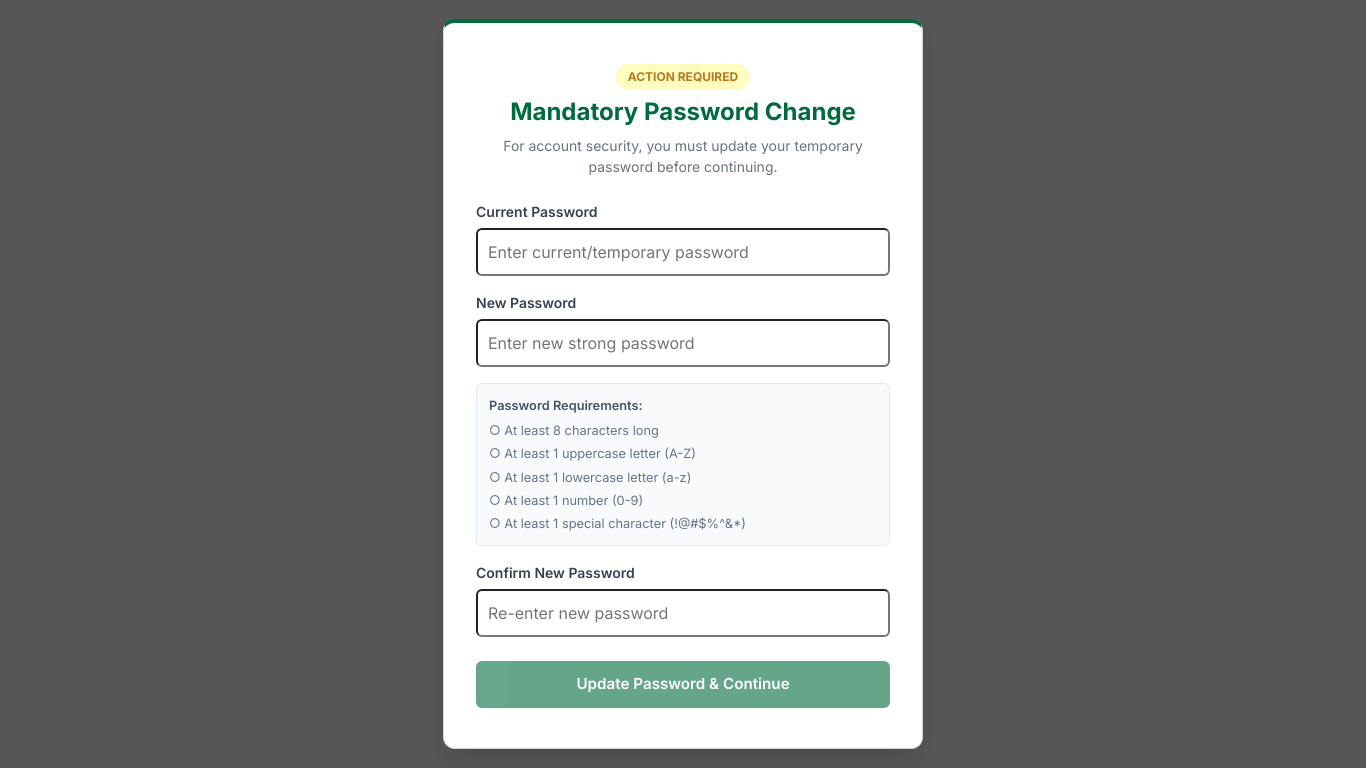
Test: ChangePassword Component › keeps submit button disabled until new password satisfies complexity and matches confirmation
Expected: the button "Update Password & Continue" is disabled, x1=476 y1=661 x2=890 y2=708
# Enter simple non-complex password
Type "Password123!" into the password field labelled "Current Password" at {"x": 683, "y": 252}, box x1=476 y1=228 x2=890 y2=276
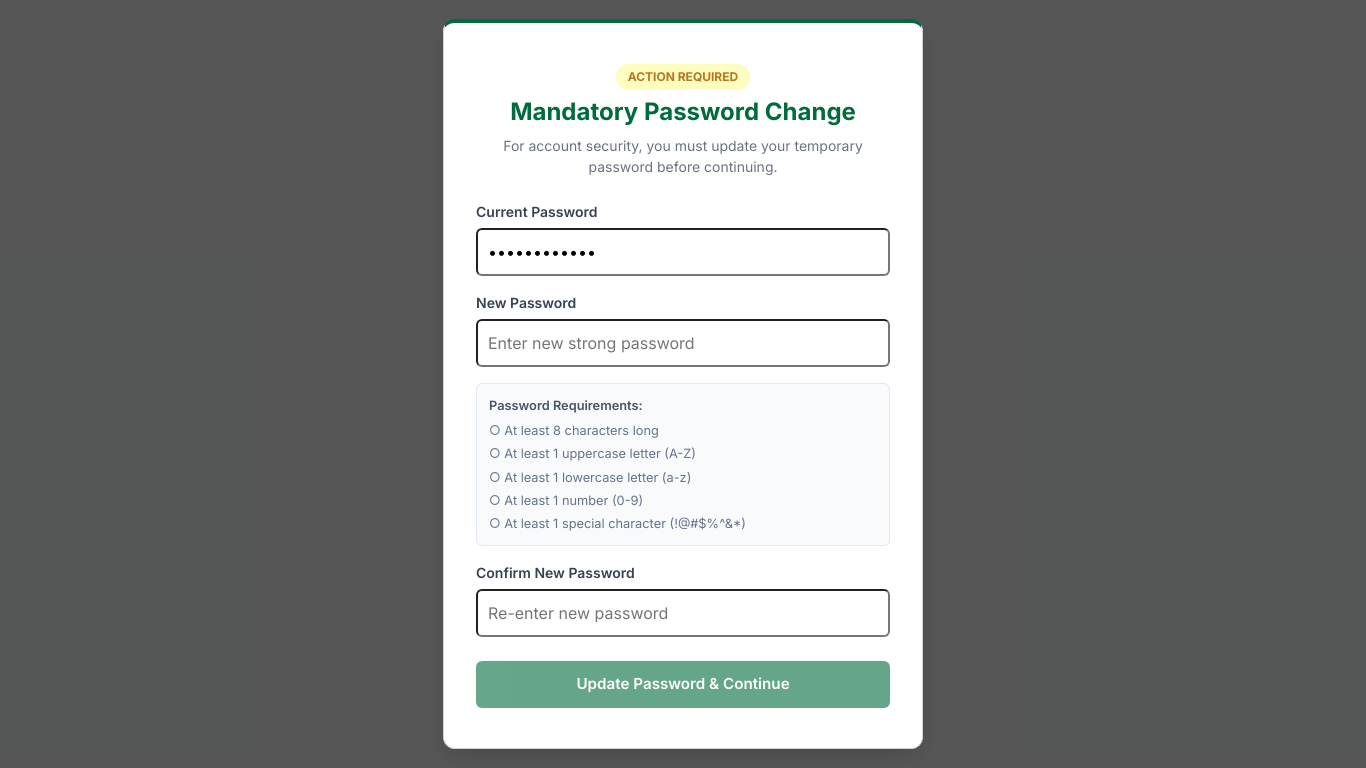
Type "simple" into the password field labelled "New Password" at {"x": 683, "y": 343}, box x1=476 y1=319 x2=890 y2=367
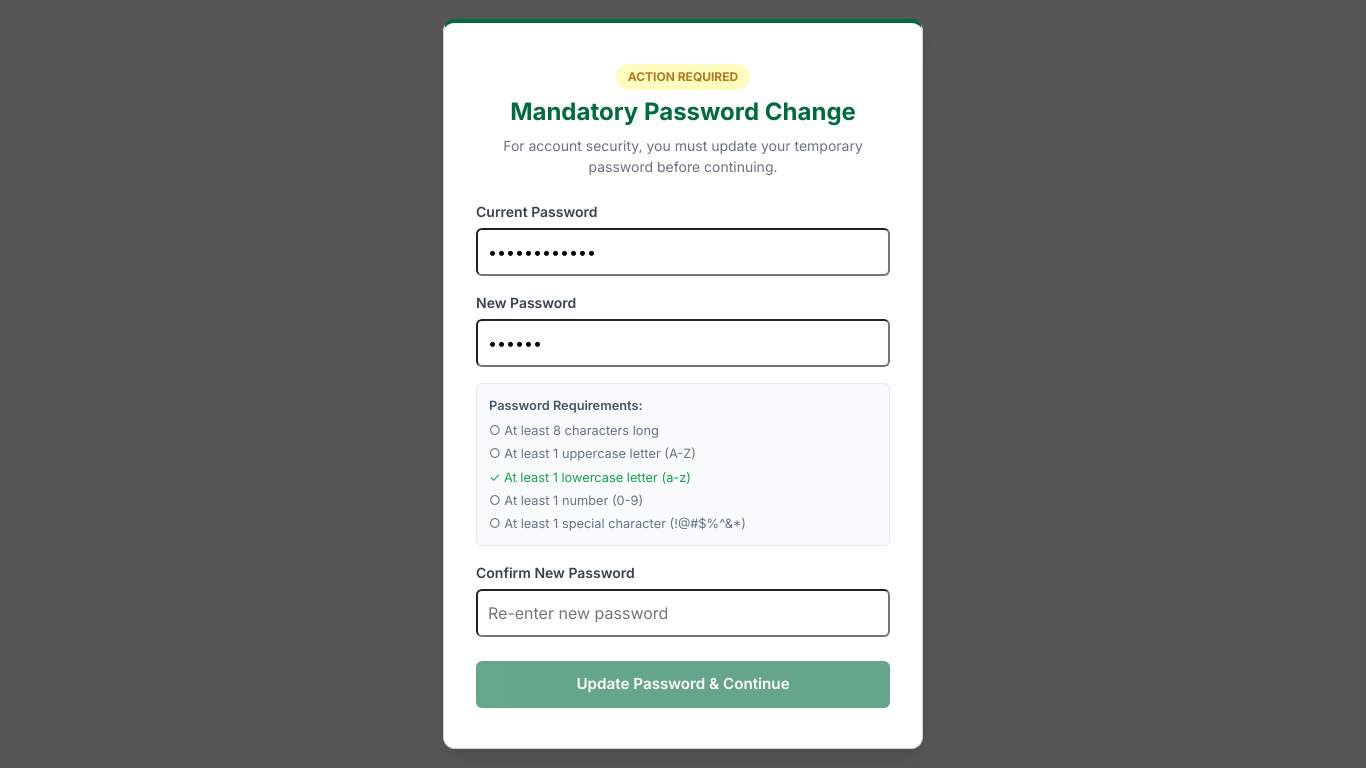
Type "simple" into the password field labelled "Confirm New Password" at {"x": 683, "y": 613}, box x1=476 y1=589 x2=890 y2=637
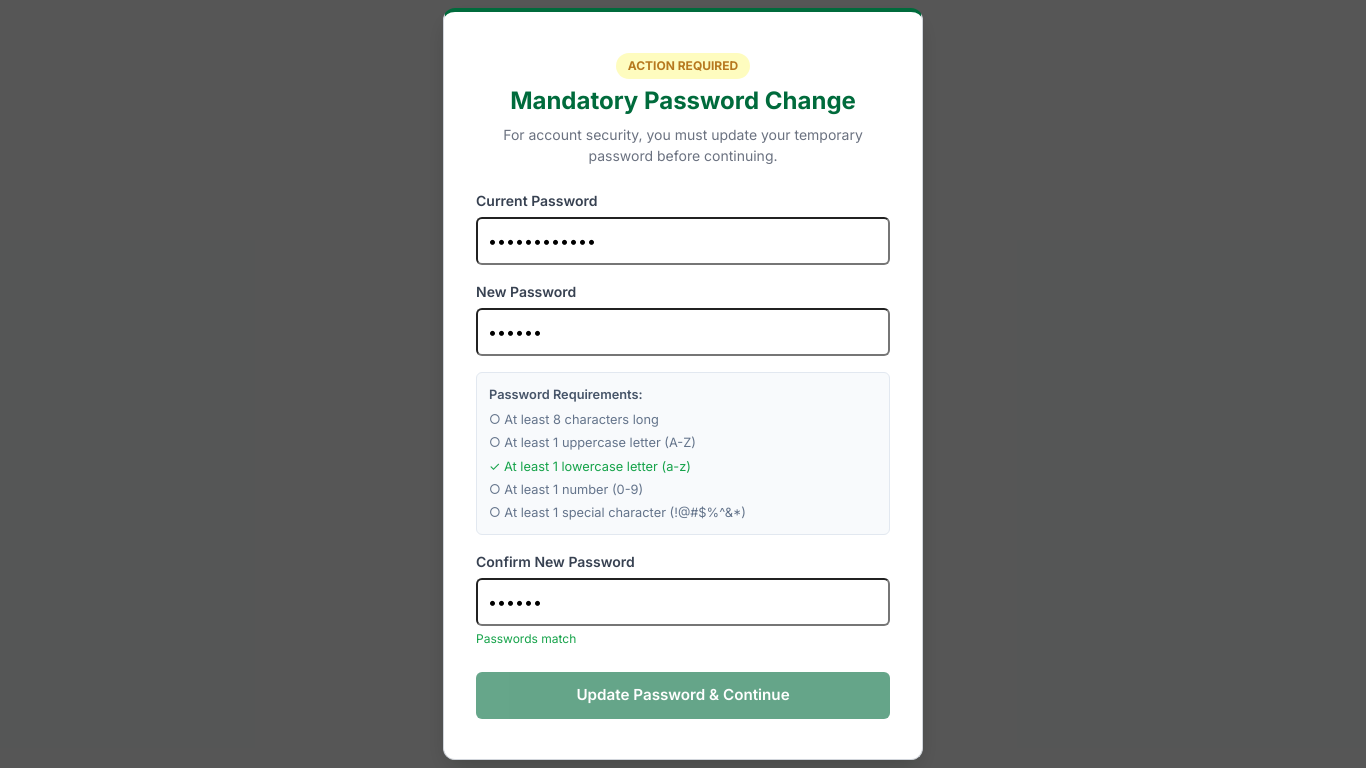
Expected: the button "Update Password & Continue" is disabled, x1=476 y1=672 x2=890 y2=719
# Enter valid complex password
Type "ValidPassword123!" into the password field labelled "New Password" at {"x": 683, "y": 332}, box x1=476 y1=308 x2=890 y2=356
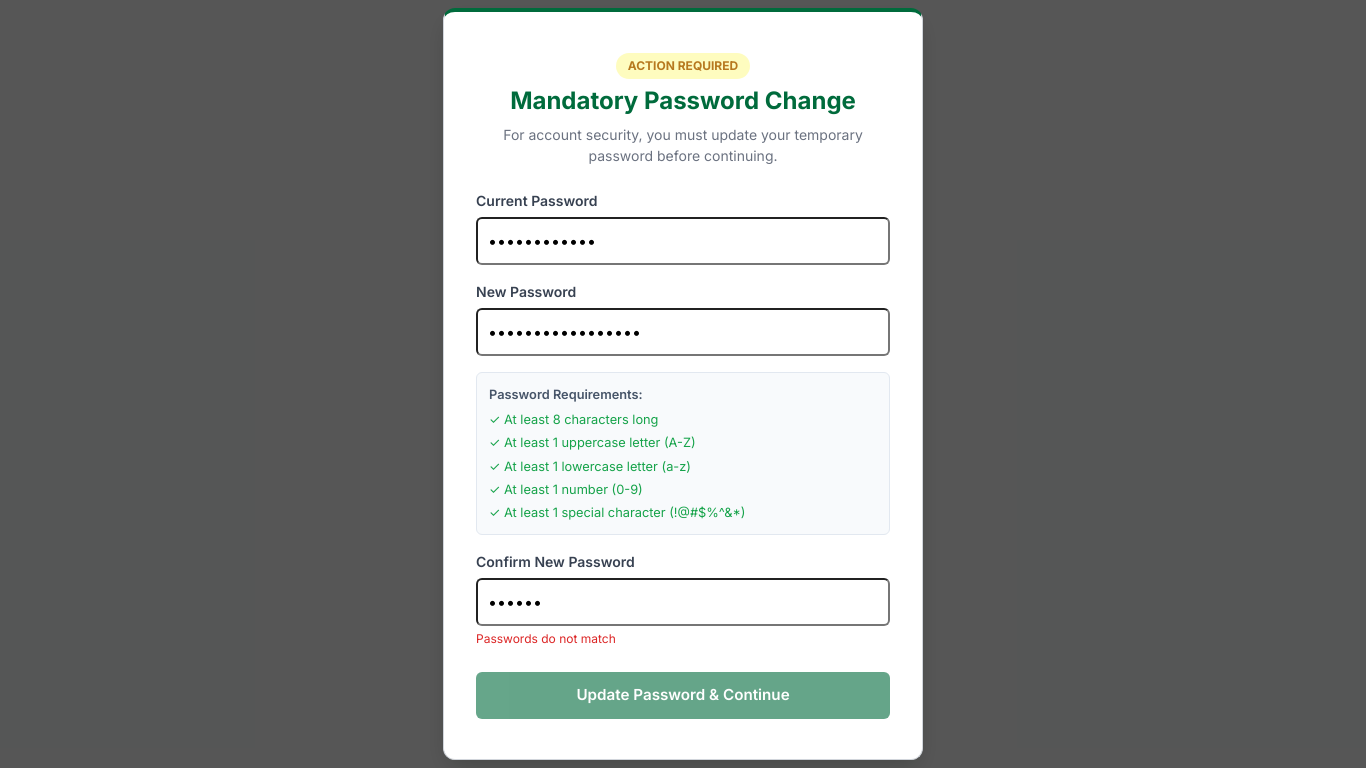
Type "ValidPassword123!" into the password field labelled "Confirm New Password" at {"x": 683, "y": 602}, box x1=476 y1=578 x2=890 y2=626
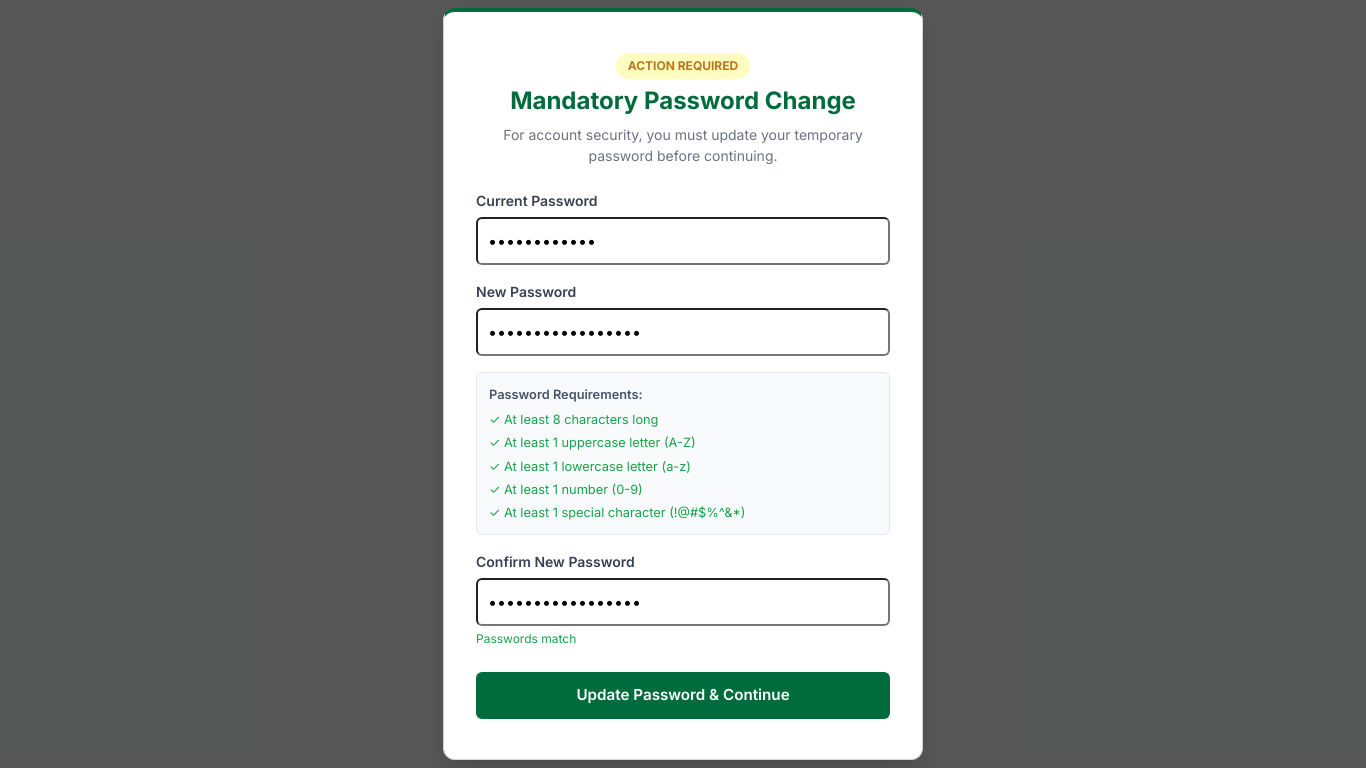
Expected: the button "Update Password & Continue" is enabled, x1=476 y1=672 x2=890 y2=719
